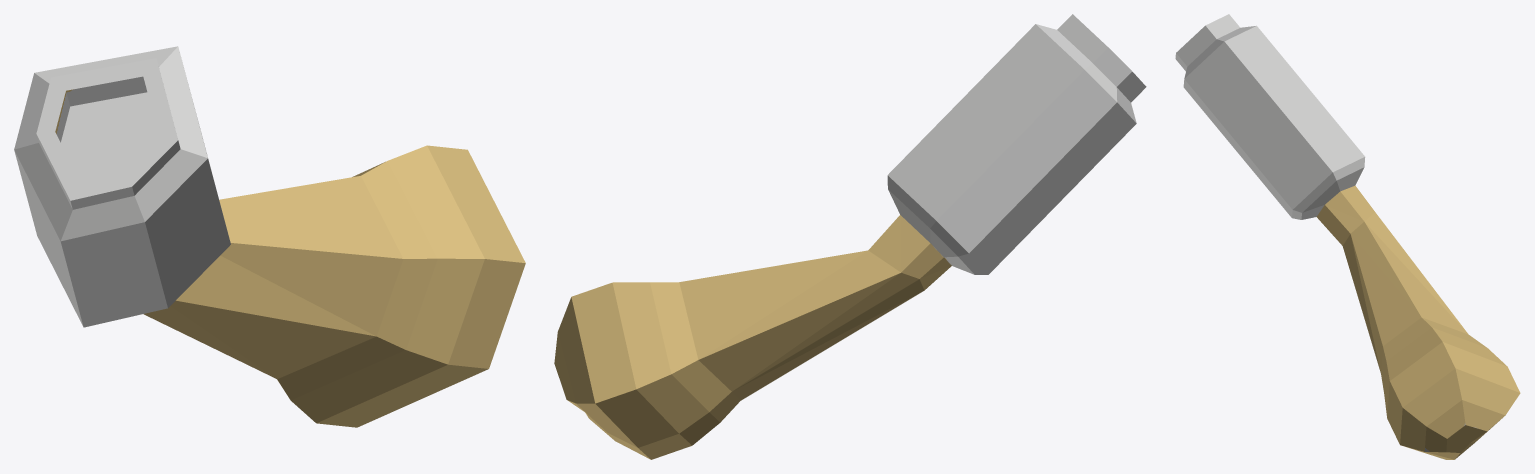
File: Dave_gun_fbx_01.fbx
3 renders of one model, left to right at view 1: azimuth 30°, elevation 25°; view 2: azimuth 150°, elevation 25°; view 3: azimuth 270°, elevation 25°, orthographic. The views are drawn at different scales.
Visible parts, largest first — view 1: polySurface13; view 2: polySurface13; view 3: polySurface13.
Part boxes in pixels (x1,y1,x2,y2): polySurface13: (14, 46, 525, 427); polySurface13: (554, 14, 1146, 459); polySurface13: (1175, 14, 1520, 459).
Size of the model in its own units: 9.45 by 8.57 by 8.2.
